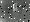person: (15, 5, 22, 16)
